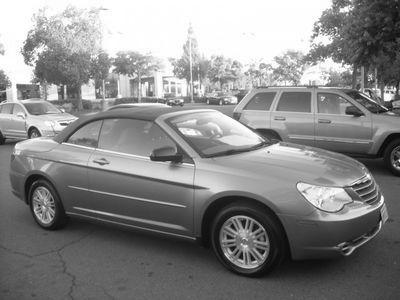car: (12, 102, 390, 280)
